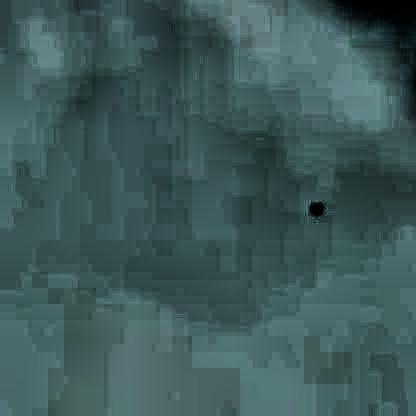golfball: (305, 202, 323, 215)
